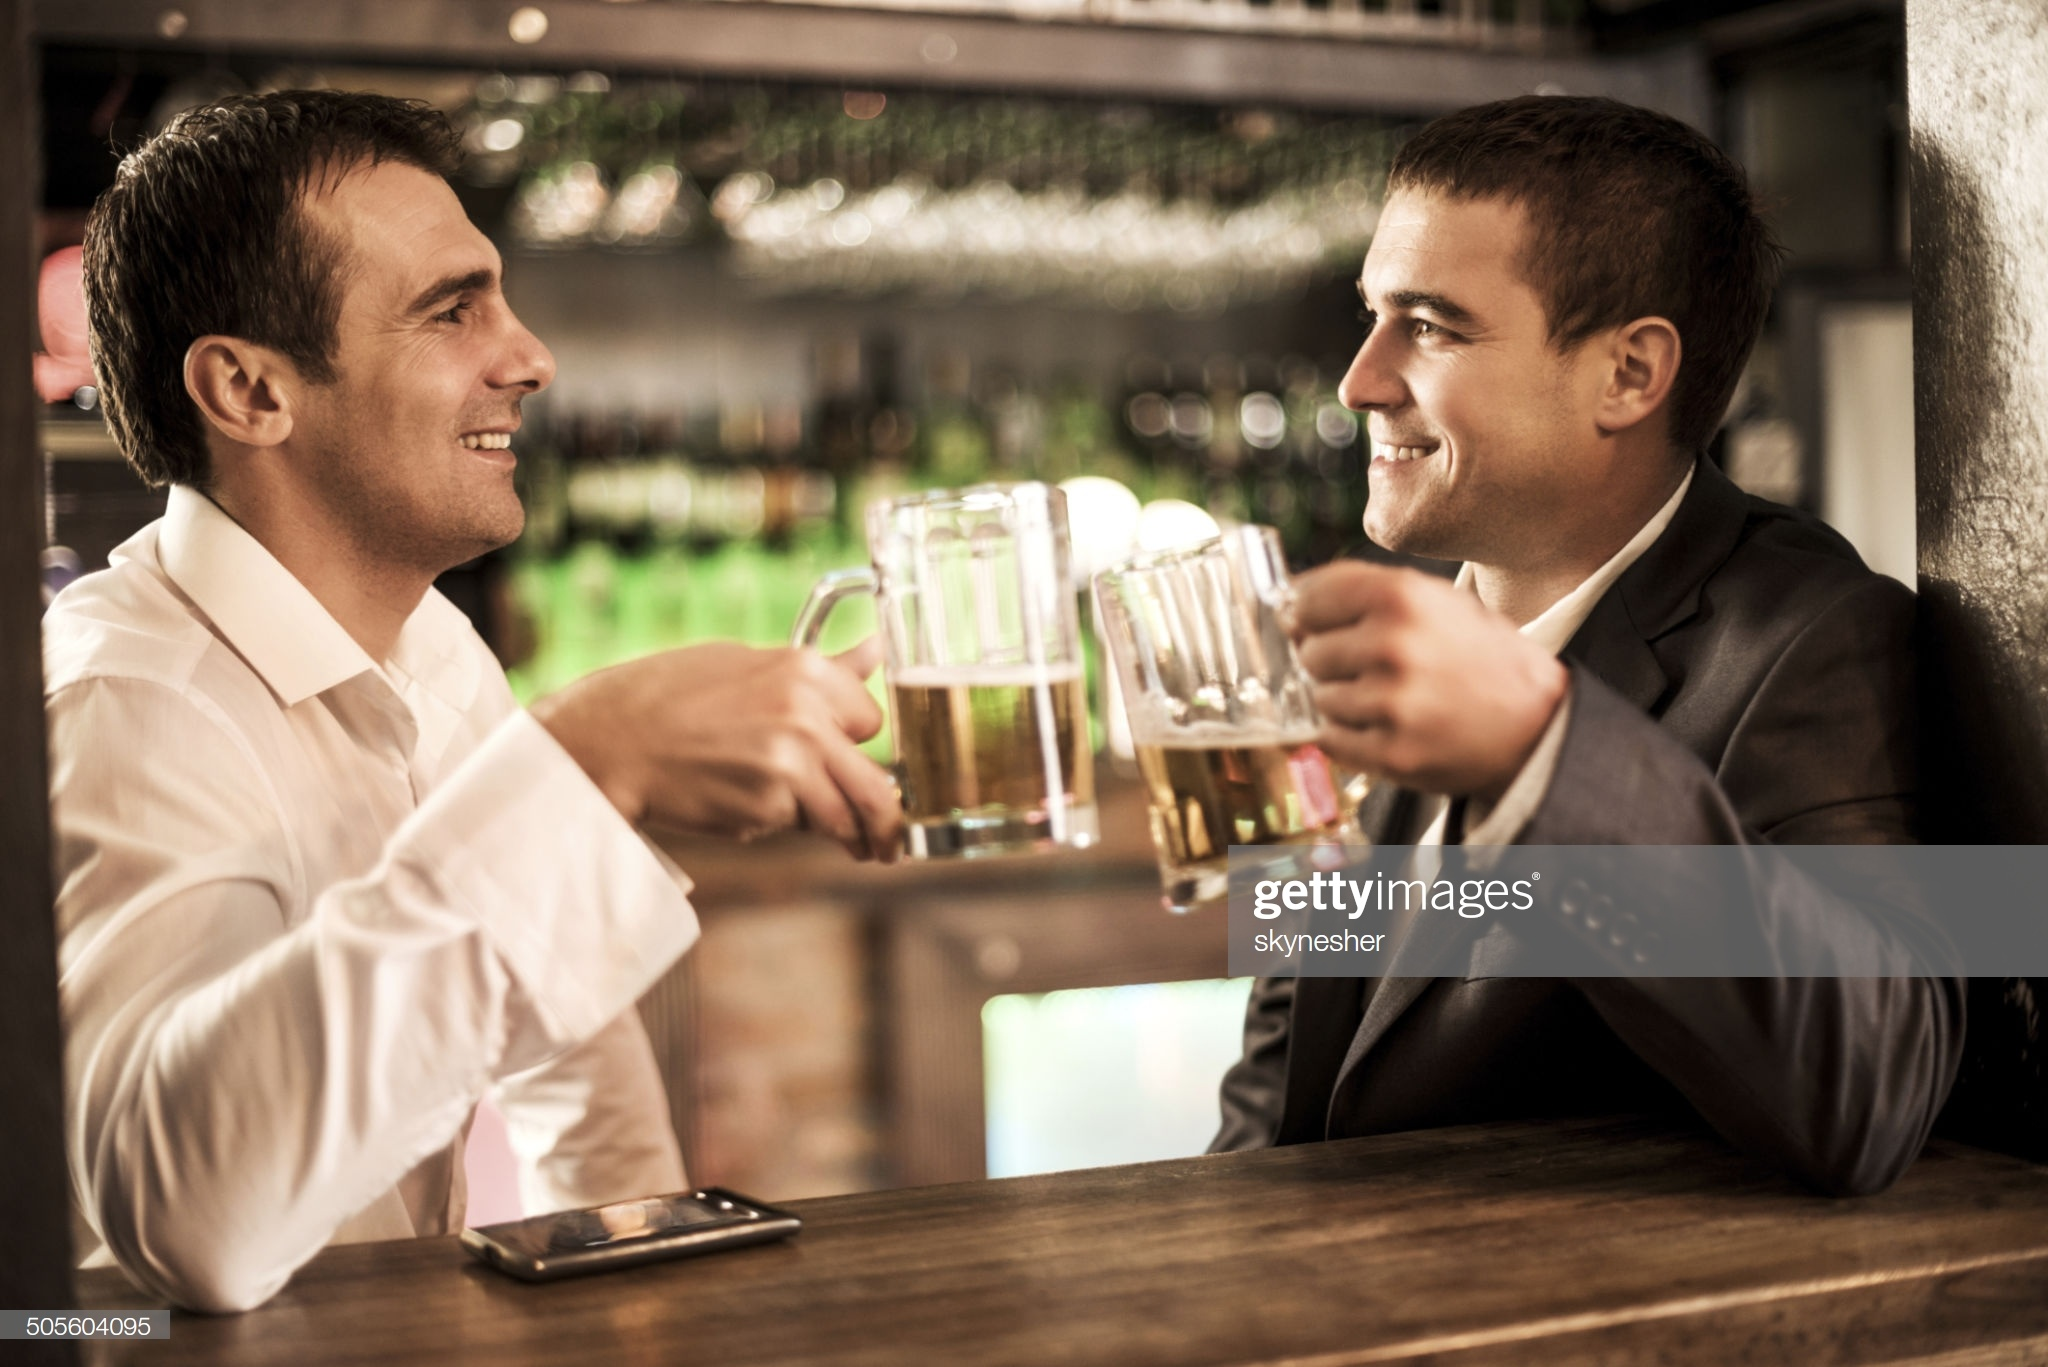glassBeer: (1133, 508, 1330, 961), (881, 479, 1098, 870)
